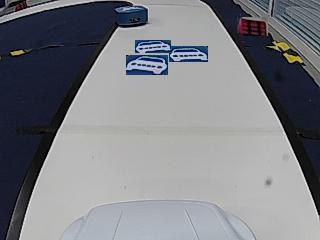prop: (115, 6, 148, 27)
